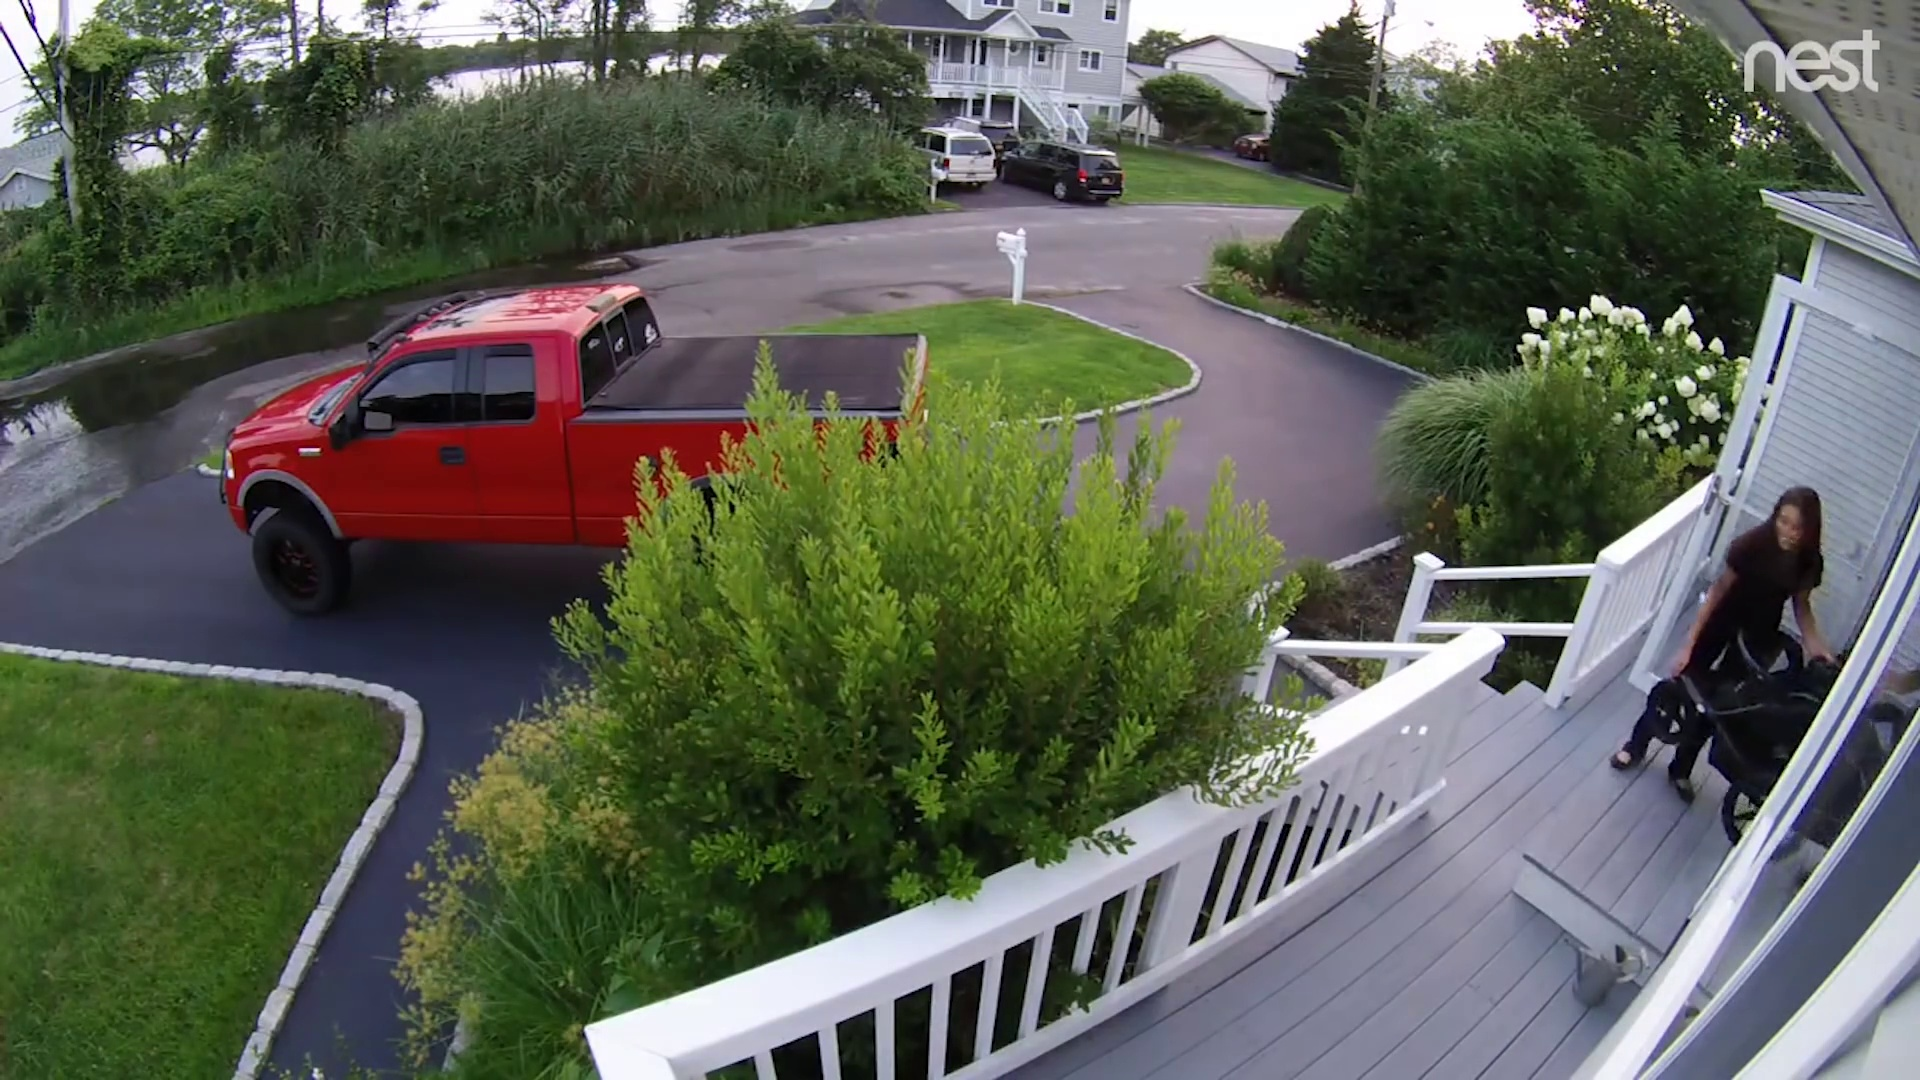face: (1772, 510, 1808, 550)
